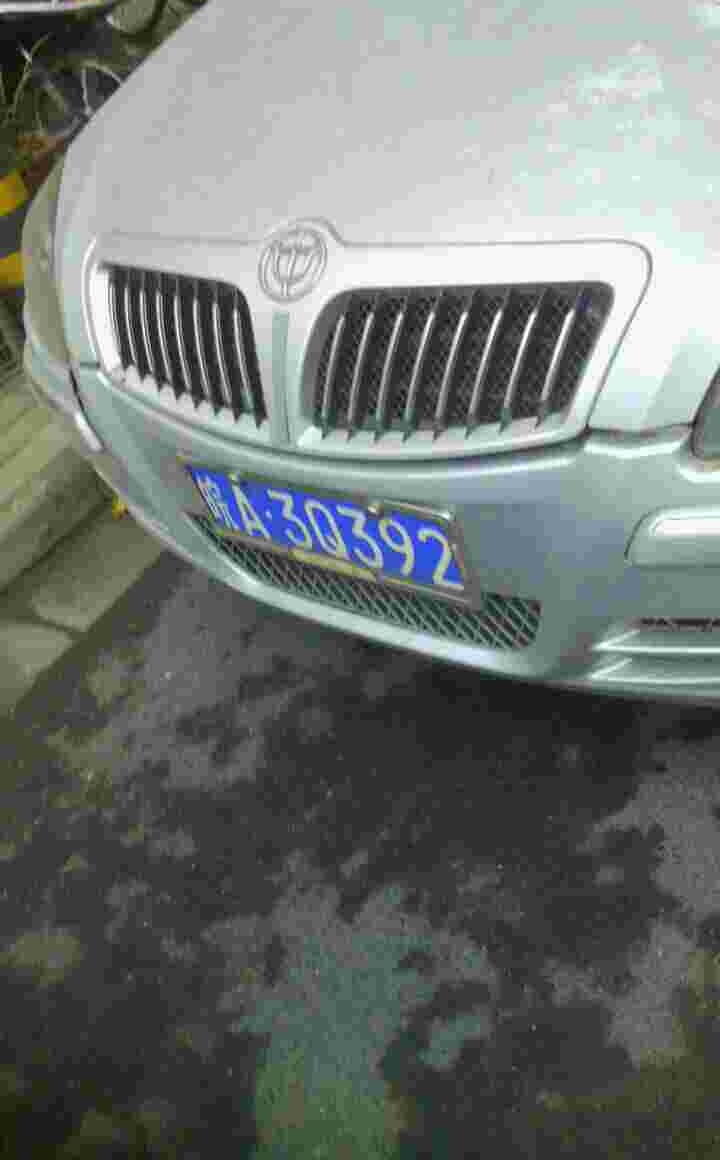license_plate: (181, 474, 469, 590)
